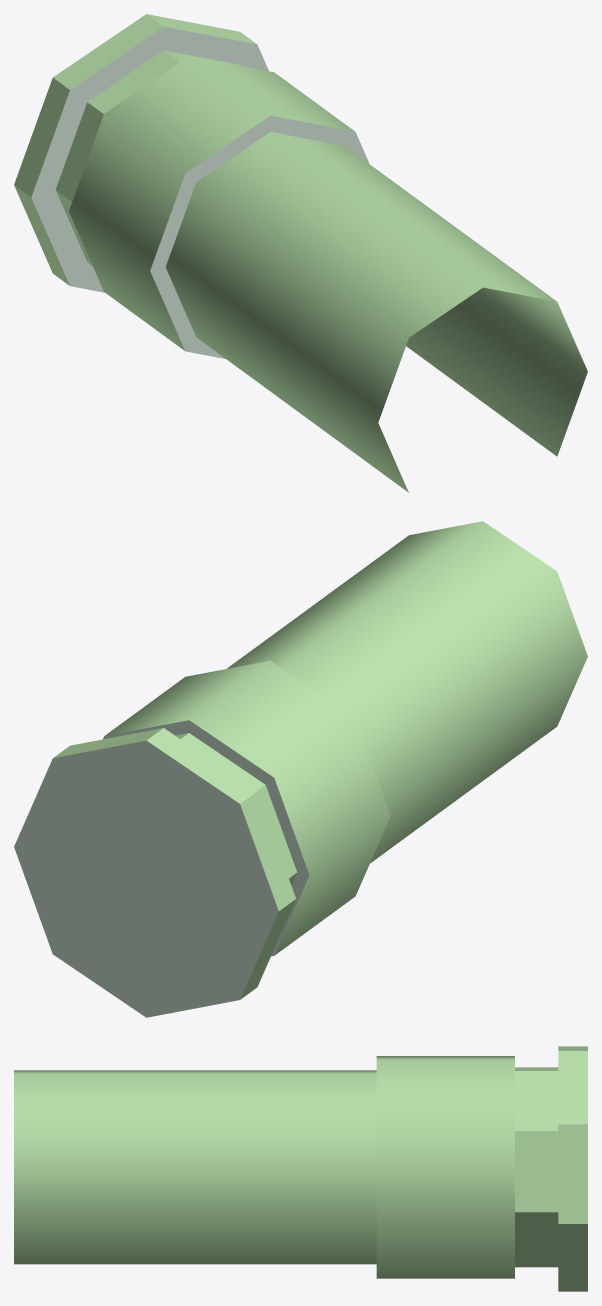
3 views of the same model, one above another, from view 1: azimuth 30°, elevation 25°; view 2: azimuth 150°, elevation 25°; view 3: azimuth 270°, elevation 25° (orthographic). The views are drawn at different scales.
Visible parts, largest first — view 1: Object65; view 2: Object65; view 3: Object65.
Part boxes in pixels (<box>): Object65: <box>14,14,587,492</box>; Object65: <box>14,521,587,1017</box>; Object65: <box>14,1046,587,1291</box>.
Size of the model in its own units: 93.67 by 93.67 by 206.
